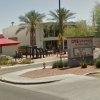Palm tree: (17, 6, 77, 48)
